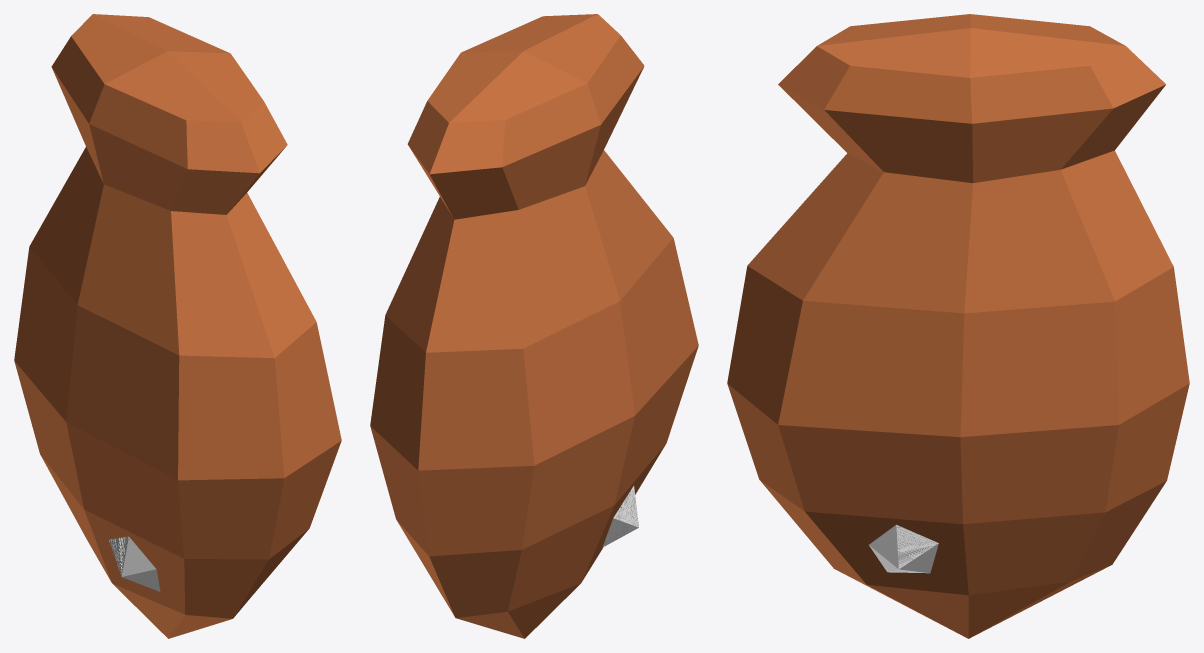
File: Fish.fbx
3 views of the same model, side by side, from view 1: azimuth 30°, elevation 25°; view 2: azimuth 150°, elevation 25°; view 3: azimuth 270°, elevation 25° (orthographic). The views are drawn at different scales.
Parts seen in each view (by area): view 1: Cube.012; view 2: Cube.012; view 3: Cube.012.
Boxes of the visible parts, x1,y1,x2,y2 form: Cube.012: (14, 14, 341, 638); Cube.012: (370, 14, 698, 638); Cube.012: (727, 14, 1189, 638).
Size of the model in its own units: 99.17 by 262 by 180.
